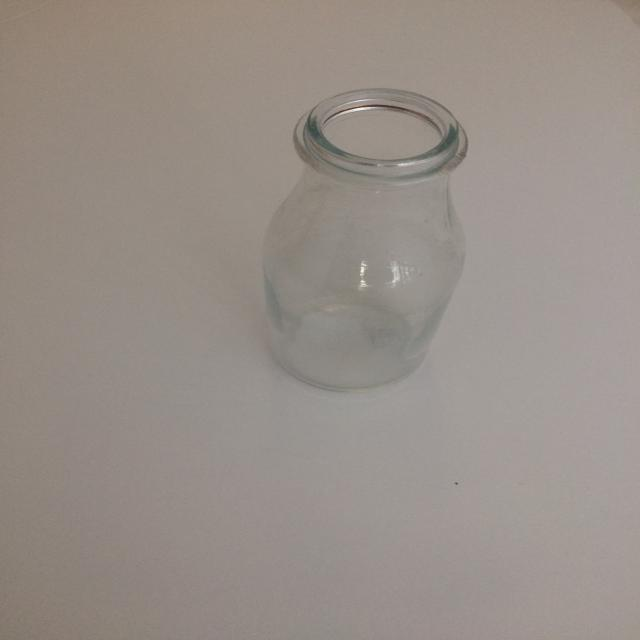glass: (260, 87, 469, 392)
